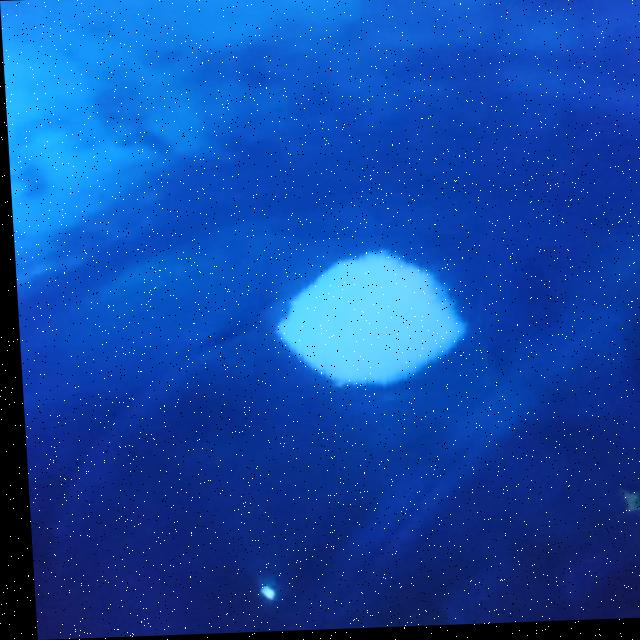litter: (245, 235, 485, 417)
